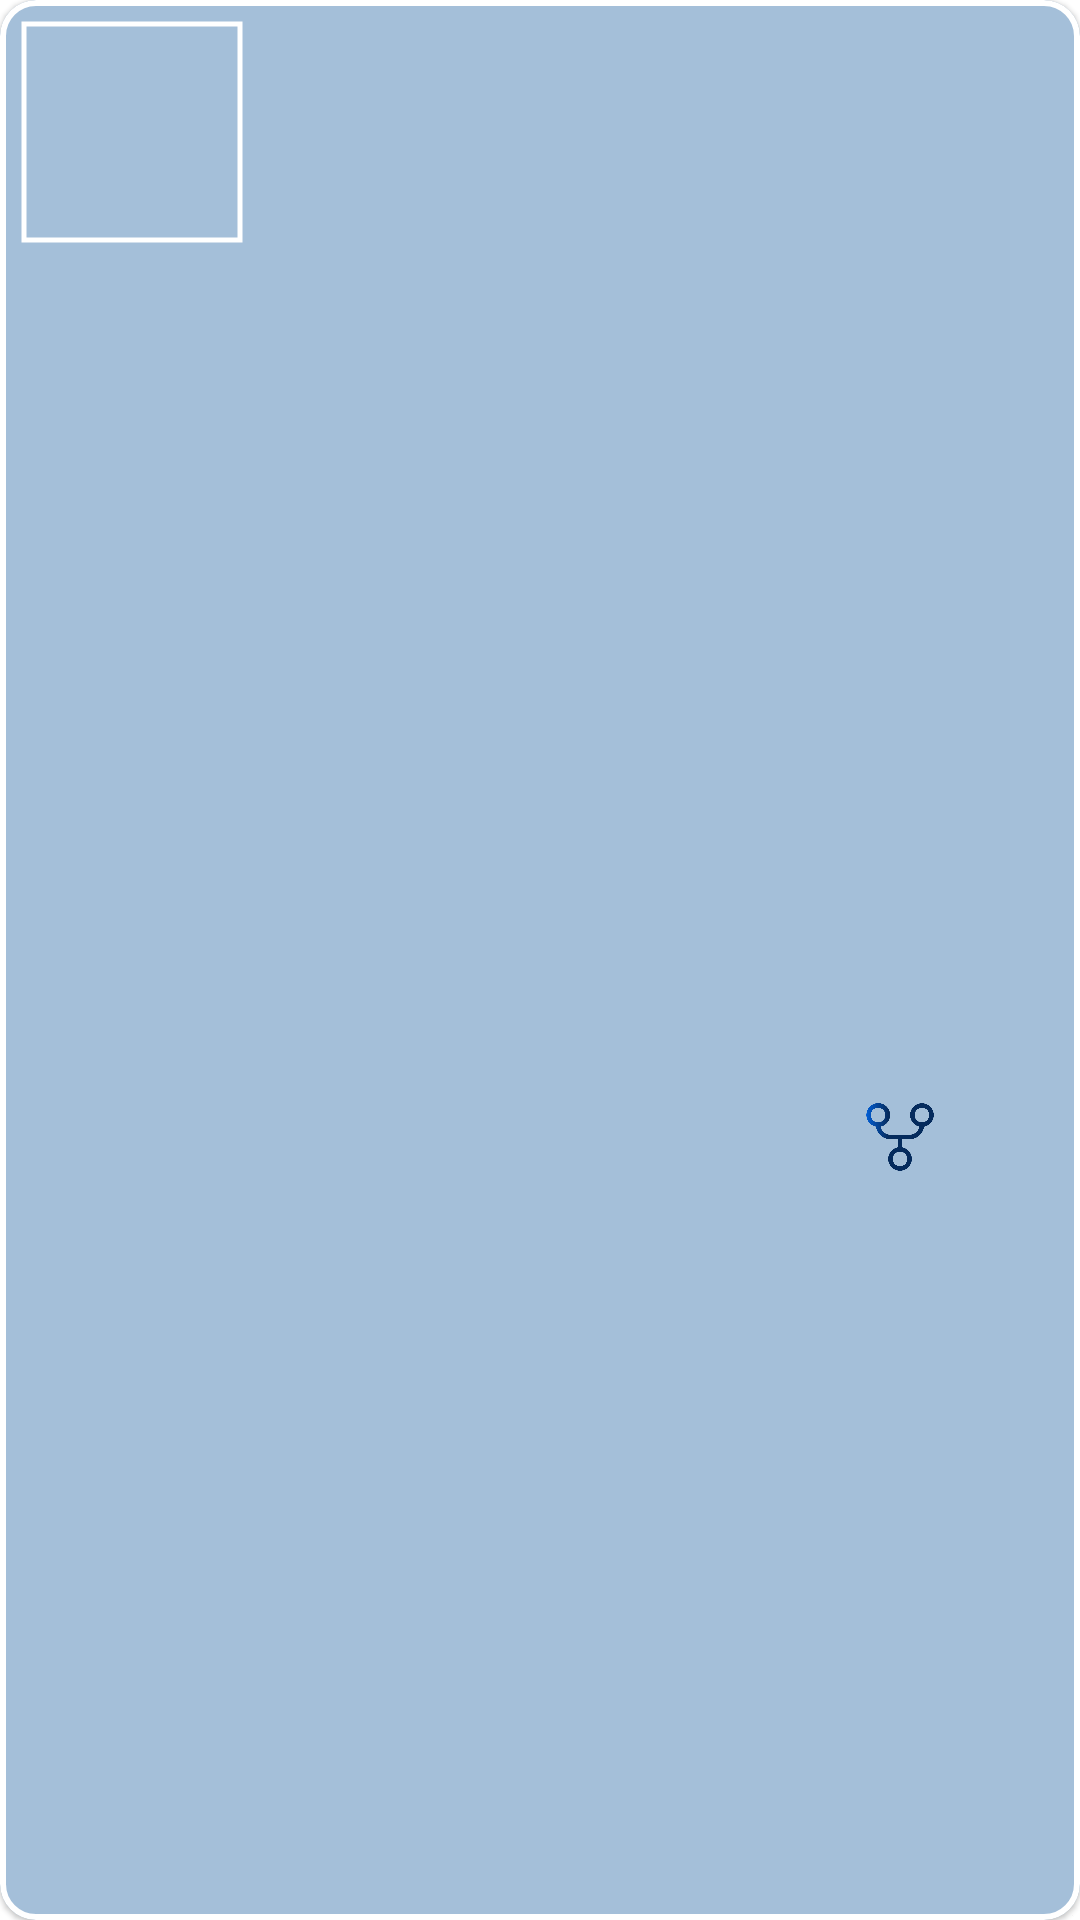

Screen size 1080 x 1920. Icon name, then its center in pixels as point (x, y):
fork: point (900, 1137)
